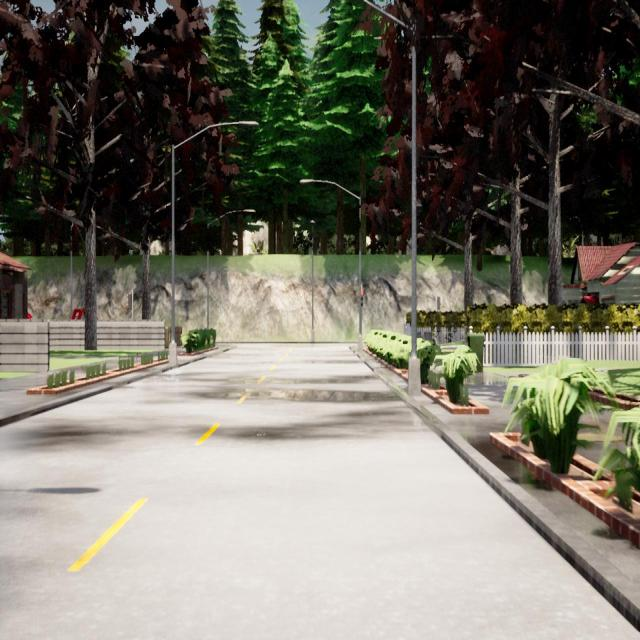traffic_light: (126, 294, 132, 309), (360, 290, 364, 308), (437, 296, 441, 310)
